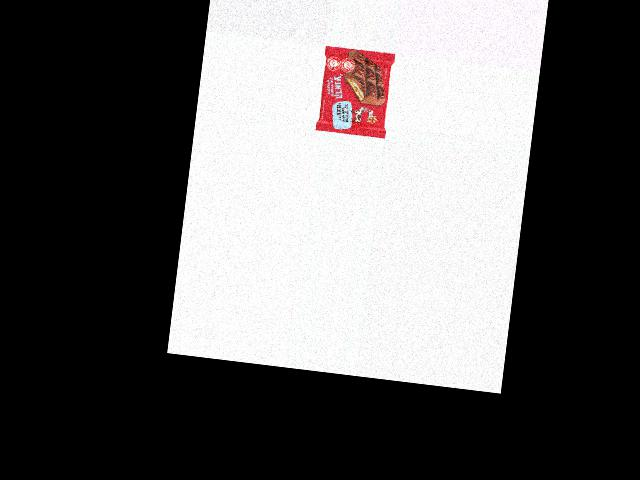chocolate: (315, 46, 394, 135)
